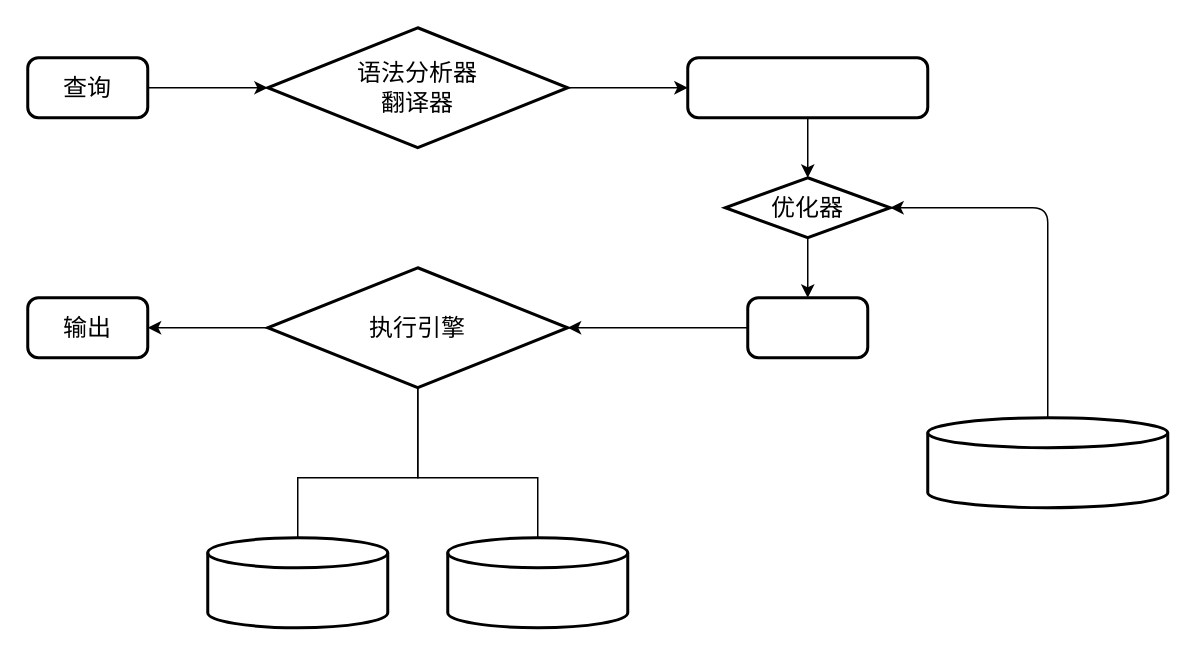
This 1194x654 diagram has some shape labels left out. The centre of each missing label's shape, as x and y in pixels:
关于数据的统计信息: pixel 1047 462
关系代数表达式: pixel 807 87
执行计划: pixel 807 327
